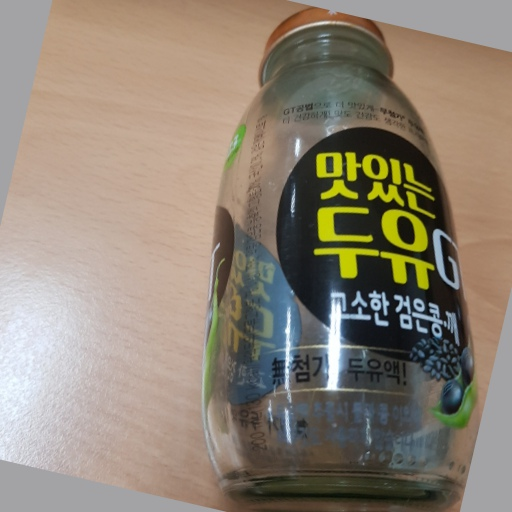Glass_4: (201, 5, 479, 495)
